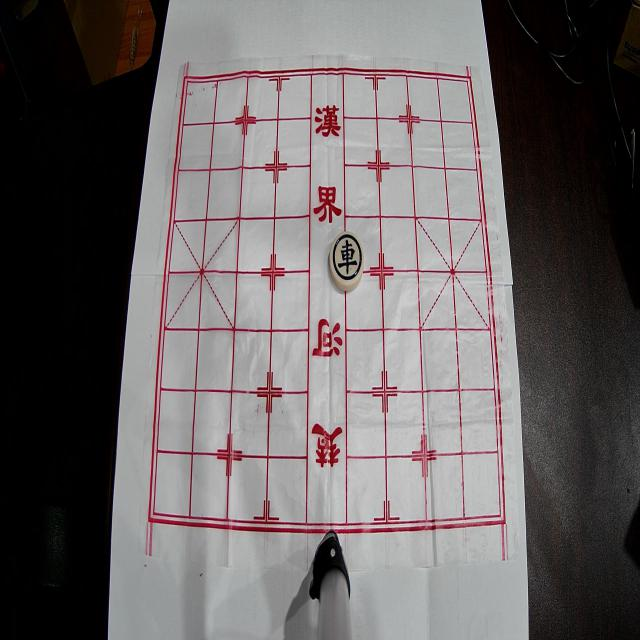black-chariot: (330, 231, 364, 291)
